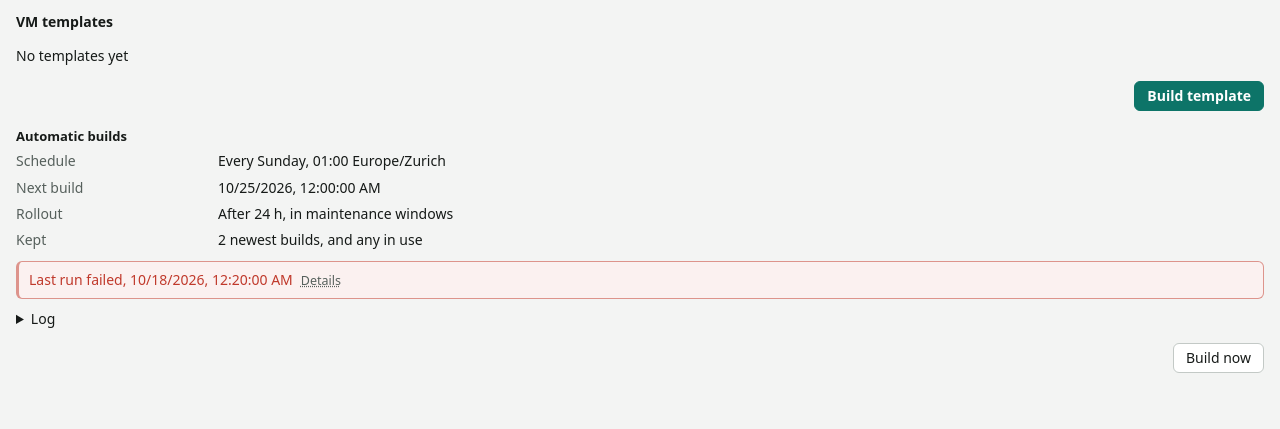
Test case: vM templates › shows the weekly build and runs it now
This screenshot has width=1280, height=429.
Expected: the text "Every Sunday, 01:00 Europe/Zurich" is shown, [218,151,446,170]
Expected: the text "After 24 h, in maintenance windows" is shown, [218,204,453,223]
What coordinates should you click on to do the following:
click the button "Build now"
I would click on:
 (1218, 358)
Its box is [1173,343,1264,373].
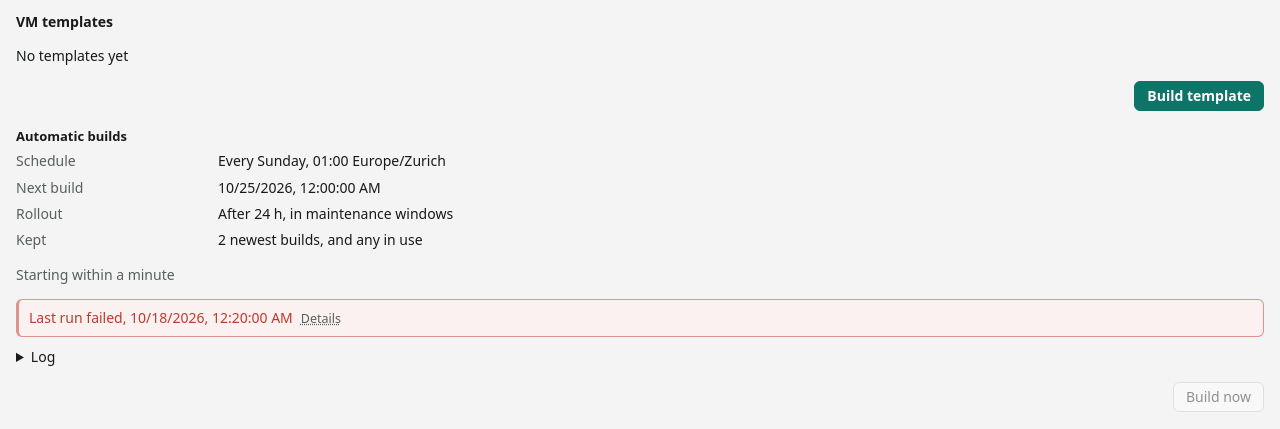
Expected: the button "Build now" is disabled, [1173,382,1264,412]
Expected: the text "Starting within a minute" is shown, [16,265,175,284]
